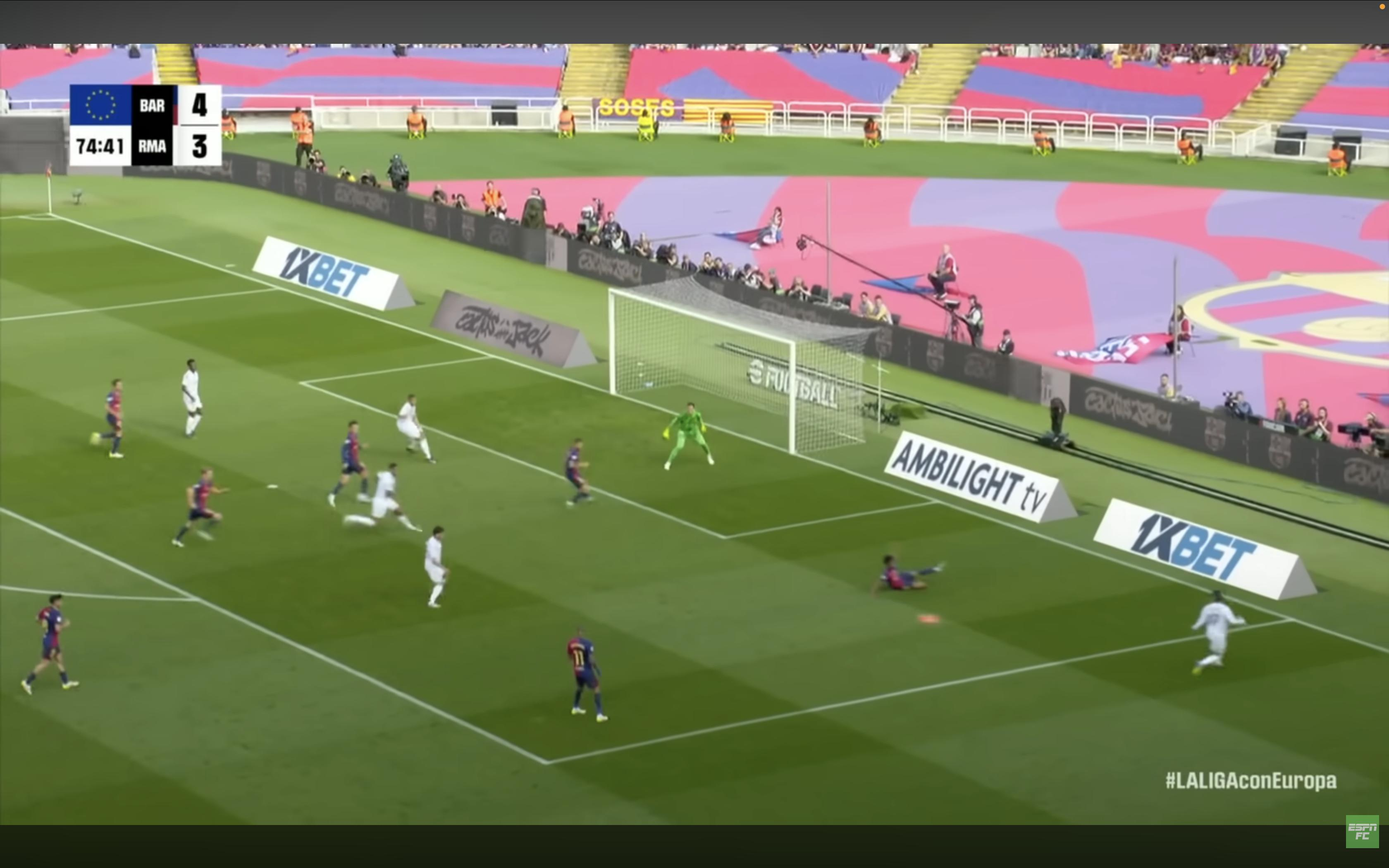ball: (915, 612, 942, 627)
goalkeeper: (663, 403, 714, 470)
player: (21, 595, 78, 694), (344, 463, 422, 532), (1193, 591, 1246, 675), (172, 469, 228, 547), (567, 629, 607, 722), (328, 421, 370, 508), (872, 556, 944, 595), (91, 379, 123, 458), (398, 395, 435, 463), (425, 527, 449, 608), (565, 439, 591, 506), (181, 359, 203, 437)
